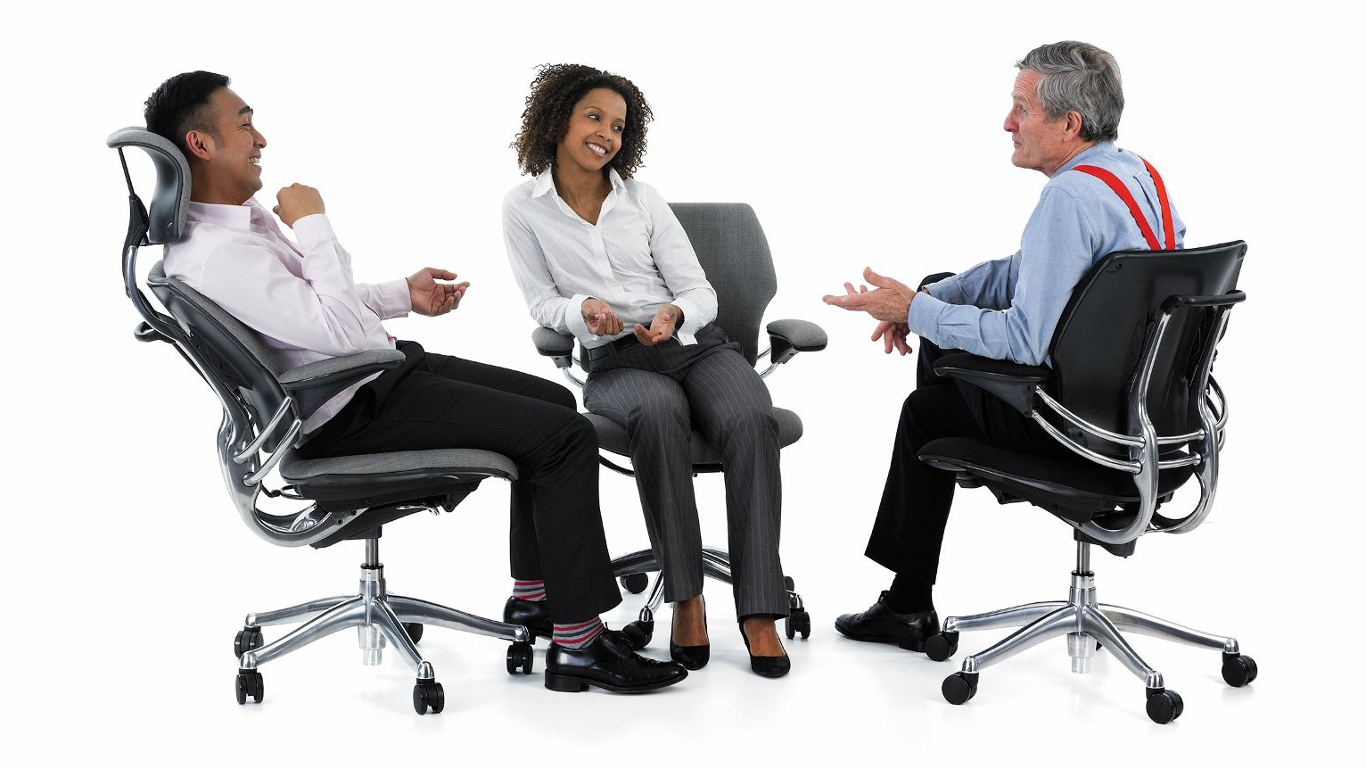chairs: (103, 130, 536, 720), (926, 243, 1270, 725), (513, 193, 831, 667)
